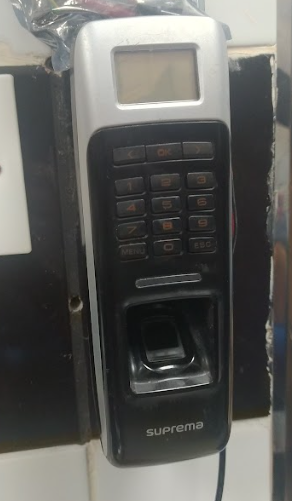Suprema: (60, 10, 251, 481)
